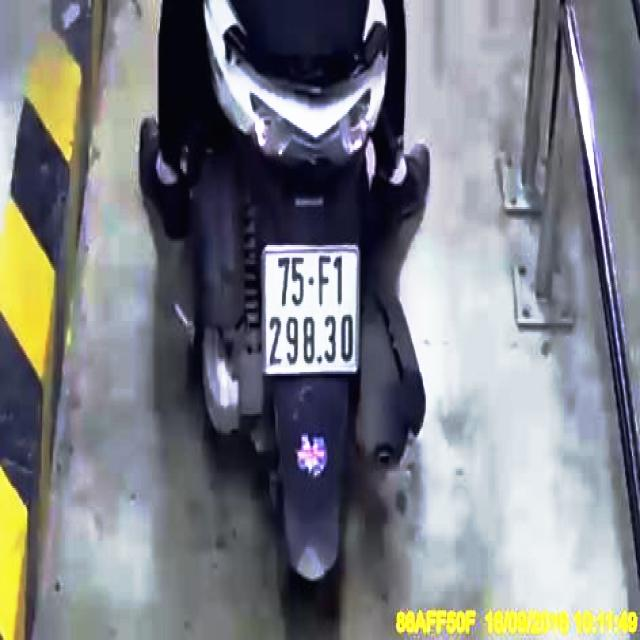license_plate: (265, 247, 362, 374)
